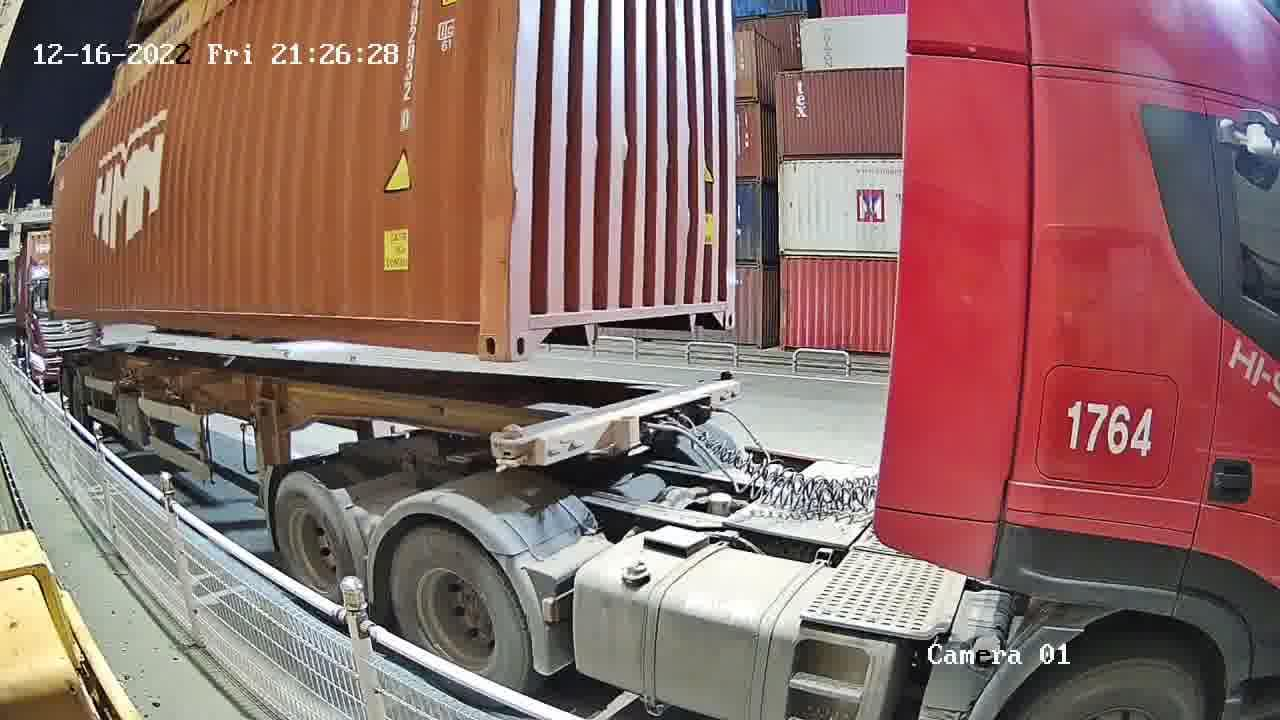Chassis: (514, 381, 740, 465)
Cone: (494, 425, 527, 468), (719, 370, 739, 406)
Hole_L: (510, 299, 558, 362)
Hole_R: (449, 293, 508, 358), (698, 279, 738, 336)
Tire: (390, 526, 530, 689), (271, 475, 353, 601)
